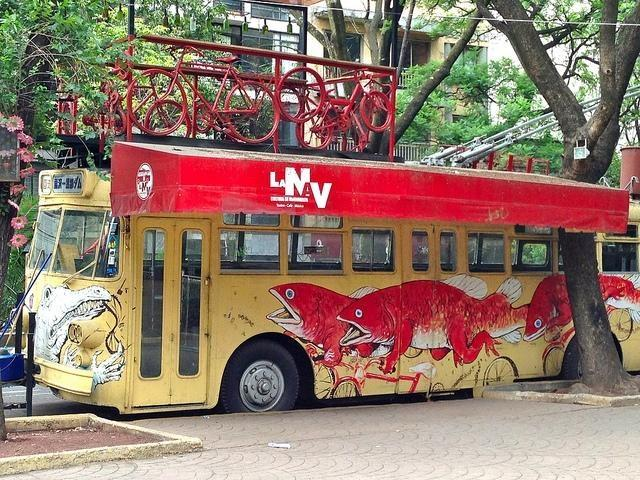bicycle: (126, 47, 278, 144), (276, 68, 392, 132)
bus: (25, 141, 640, 415)
